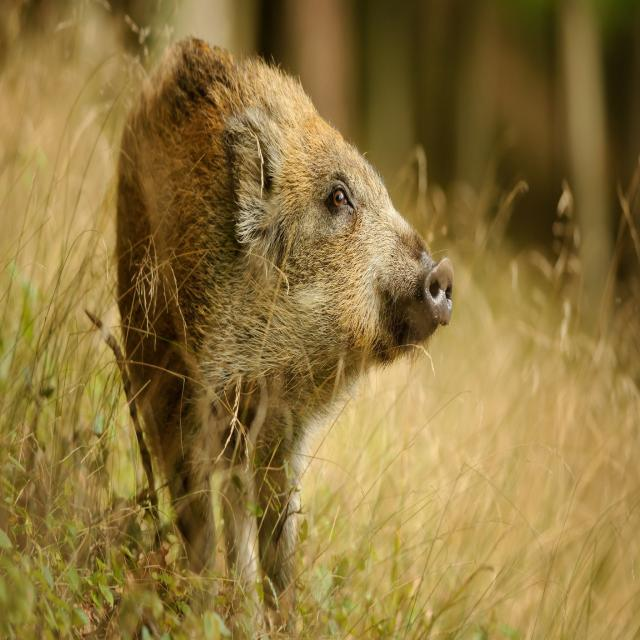Boar: (112, 38, 460, 563)
